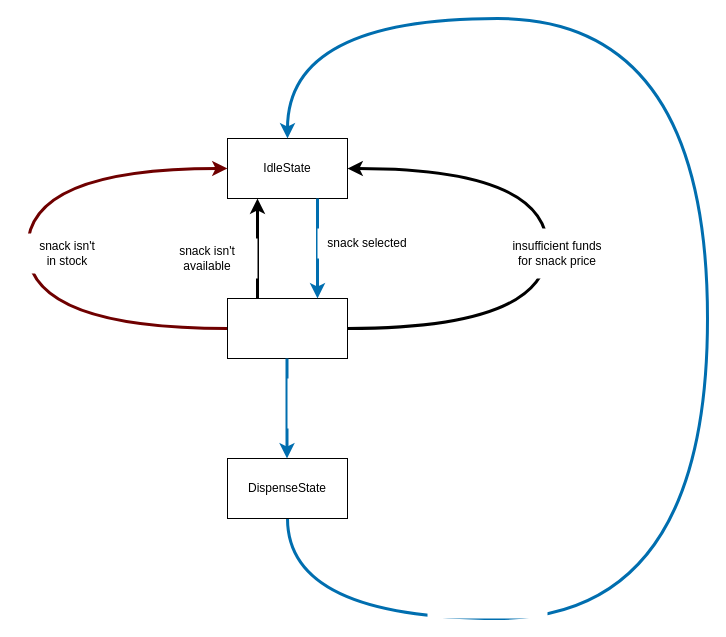
Some shapes in this 726 by 637 pixel diagram are drawn without their labels. Here are the shapes that lost their labels. From the top down, the centre of each, then its label:
the point at 287,328: PaymentState
the point at 387,403: payment amount suffices for snack and snack is in stock
the point at 487,603: snack is dispensed
